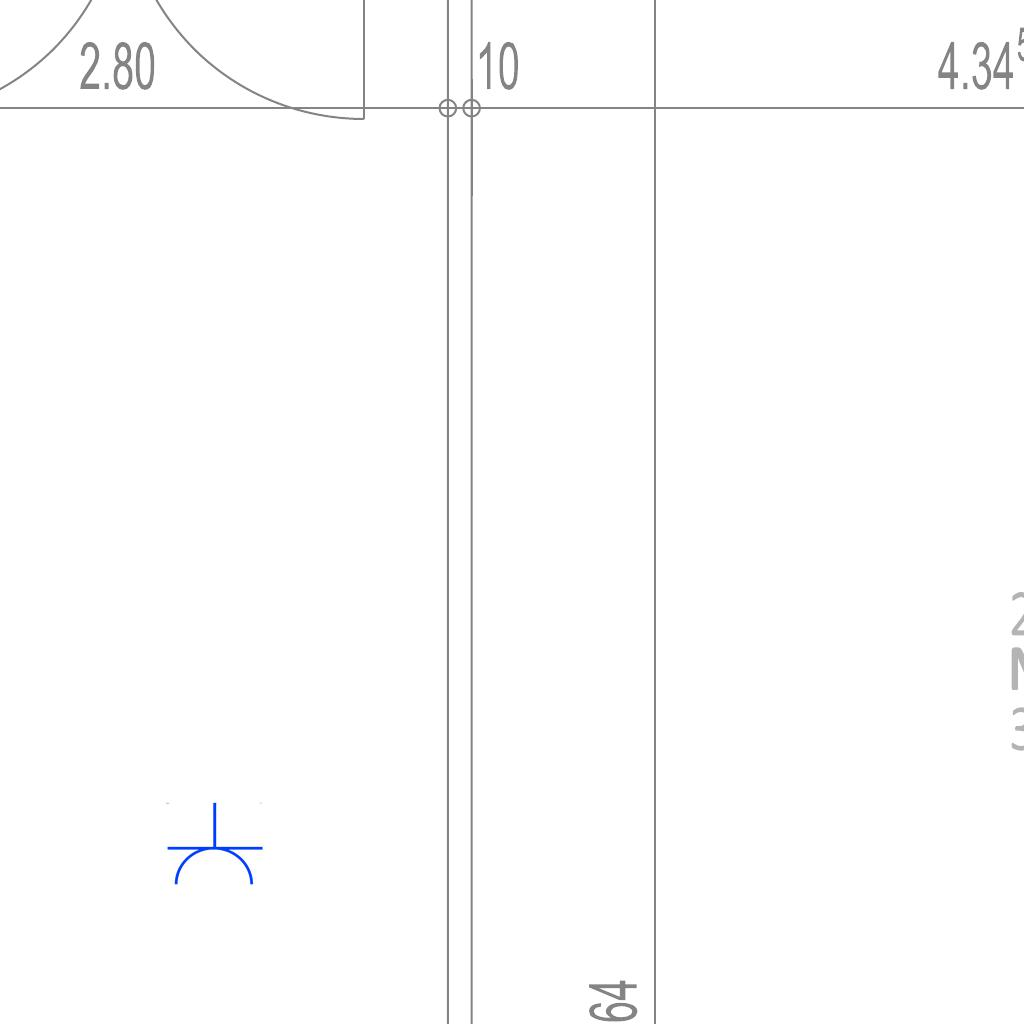Schukosteckdose_einfach: (164, 802, 264, 889)
